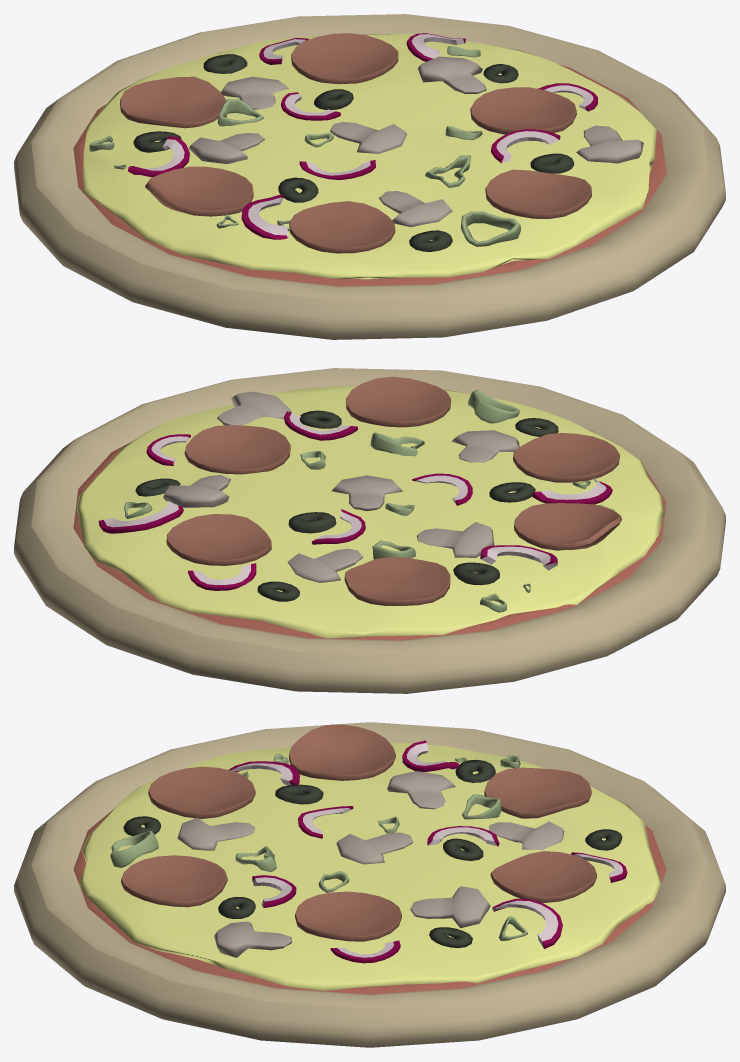
File: pizza.fbx
3 renders of one model, top to bottom at view 1: azimuth 30°, elevation 25°; view 2: azimuth 150°, elevation 25°; view 3: azimuth 270°, elevation 25°, orthographic.
Parts seen in each view (by area): view 1: pCylinder1, pCylinder13, polySurface143, polySurface147, polySurface145, polySurface146, polySurface144, polySurface142, polySurface128, polySurface162, polySurface129, polySurface163 (+20 smaller); view 2: pCylinder1, pCylinder13, polySurface147, polySurface142, polySurface145, polySurface144, polySurface143, polySurface146, polySurface130, polySurface162, polySurface161, polySurface128 (+20 smaller); view 3: pCylinder1, pCylinder13, polySurface146, polySurface144, polySurface143, polySurface142, polySurface145, polySurface147, polySurface128, polySurface162, polySurface130, polySurface163 (+20 smaller).
Boxes of the visible parts, x1,y1,x2,y2 form: pCylinder1: [14, 14, 725, 339]; pCylinder13: [82, 34, 656, 279]; polySurface143: [289, 201, 395, 253]; polySurface147: [291, 33, 398, 84]; polySurface145: [120, 76, 226, 128]; polySurface146: [145, 166, 253, 216]; polySurface144: [485, 169, 591, 218]; polySurface142: [470, 87, 576, 134]; polySurface128: [417, 56, 486, 93]; polySurface162: [576, 125, 643, 163]; polySurface129: [379, 191, 452, 227]; polySurface163: [330, 122, 406, 153]; pCylinder1: [14, 368, 725, 693]; pCylinder13: [76, 386, 664, 638]; polySurface147: [166, 514, 271, 565]; polySurface142: [184, 425, 290, 474]; polySurface145: [344, 556, 450, 605]; polySurface144: [346, 376, 450, 427]; polySurface143: [513, 433, 619, 482]; polySurface146: [514, 503, 621, 550]; polySurface130: [416, 522, 494, 557]; polySurface162: [217, 391, 291, 425]; polySurface161: [287, 548, 362, 582]; polySurface128: [163, 475, 230, 507]; pCylinder1: [14, 722, 725, 1047]; pCylinder13: [79, 742, 661, 990]; polySurface146: [289, 724, 395, 780]; polySurface144: [121, 855, 227, 907]; polySurface143: [148, 766, 255, 818]; polySurface142: [295, 891, 401, 941]; polySurface145: [484, 767, 591, 818]; polySurface147: [490, 851, 596, 902]; polySurface128: [410, 886, 490, 928]; polySurface162: [214, 921, 291, 957]; polySurface130: [387, 771, 455, 809]; polySurface163: [336, 832, 413, 864].
Bounding box in the file's own units: 10 × 1.05 × 10.
